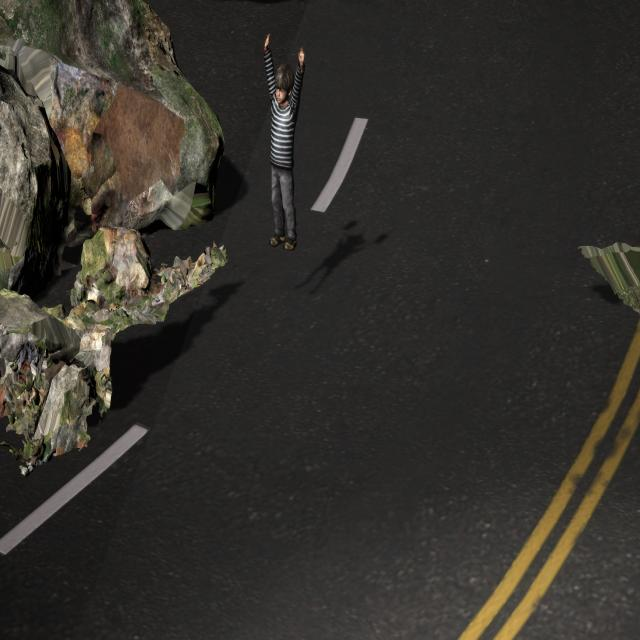Human: (256, 25, 312, 264)
